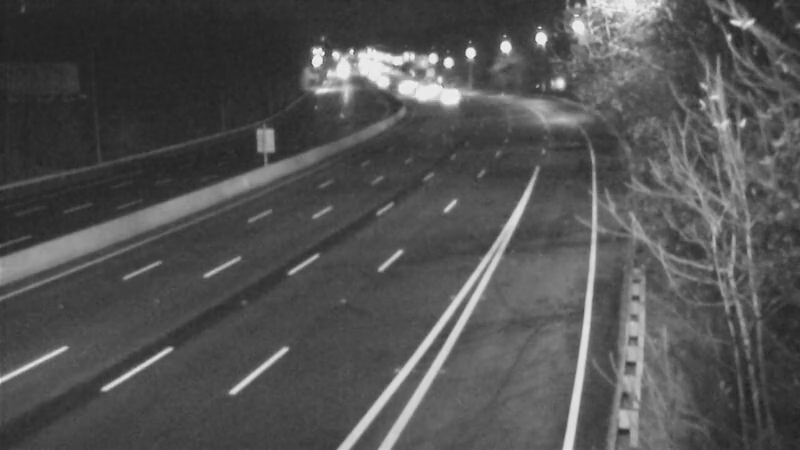vehicle: (381, 64, 431, 114), (425, 72, 475, 122)
